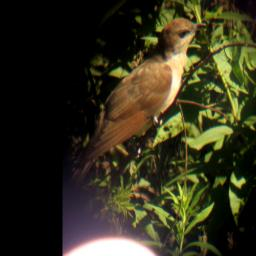Cuckoo: (67, 17, 208, 193)
